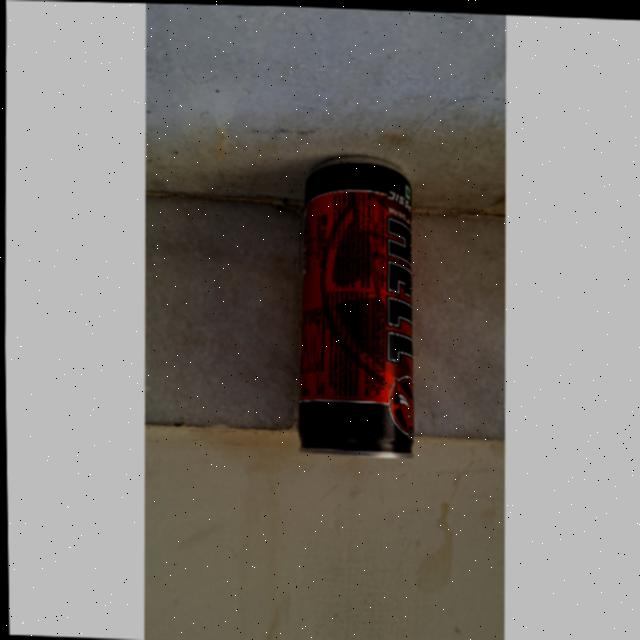Hell Classic: (284, 142, 428, 467)
